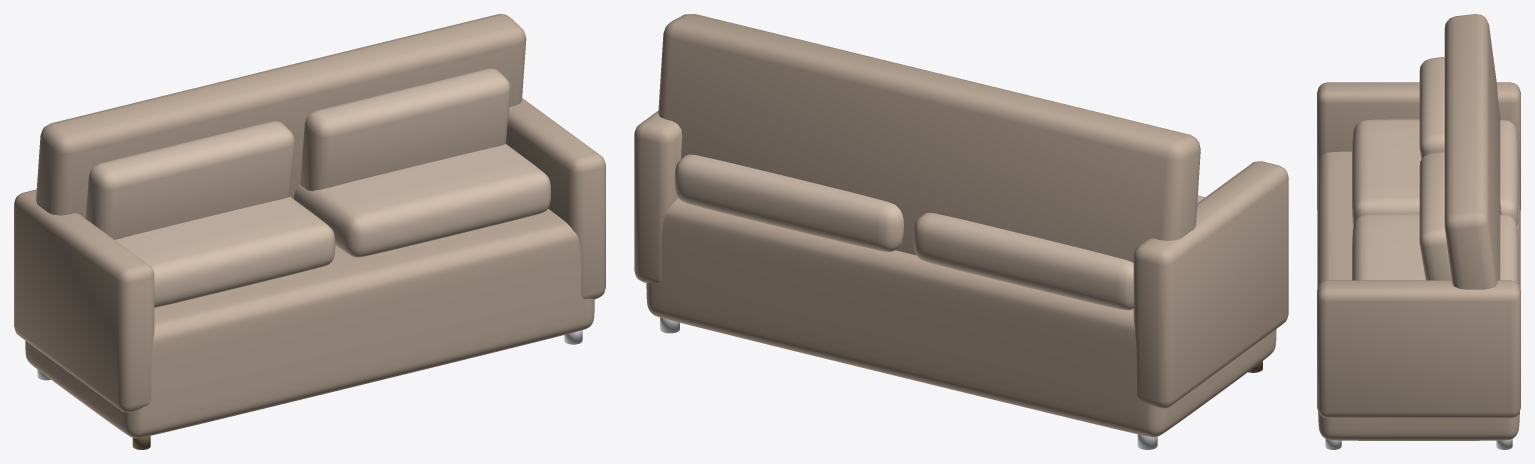
The model's file is couch.glb.
The picture shows the model from 3 angles, left to right: view 1: azimuth 30°, elevation 25°; view 2: azimuth 150°, elevation 25°; view 3: azimuth 270°, elevation 25°; orthographic projection. The views are drawn at different scales.
Parts seen in each view (by area): view 1: CouchBase, CouchBack, ArmLeft, CushionR, BackCushionR, BackCushionL, CushionL, ArmRight; view 2: CouchBack, CouchBase, ArmLeft, CushionR, CushionL, ArmRight; view 3: ArmRight, CouchBack, CouchBase, CushionL, ArmLeft, CushionR, BackCushionR, BackCushionL.
Part boxes in pixels (bbox=[...]): CouchBase: bbox=[25, 209, 594, 438]; CouchBack: bbox=[36, 14, 526, 218]; ArmLeft: bbox=[14, 189, 154, 412]; CushionR: bbox=[294, 144, 550, 257]; BackCushionR: bbox=[300, 68, 510, 190]; BackCushionL: bbox=[85, 121, 294, 239]; CushionL: bbox=[115, 196, 335, 307]; ArmRight: bbox=[506, 98, 605, 299]; CouchBack: bbox=[658, 14, 1200, 262]; CouchBase: bbox=[646, 198, 1276, 437]; ArmLeft: bbox=[1133, 161, 1288, 408]; CushionR: bbox=[674, 154, 903, 251]; CushionL: bbox=[913, 195, 1204, 310]; ArmRight: bbox=[634, 111, 682, 283]; ArmRight: bbox=[1317, 280, 1520, 418]; CouchBack: bbox=[1444, 14, 1501, 289]; CouchBase: bbox=[1317, 151, 1520, 440]; CushionL: bbox=[1352, 119, 1518, 225]; ArmLeft: bbox=[1317, 82, 1520, 209]; CushionR: bbox=[1352, 214, 1518, 283]; BackCushionR: bbox=[1419, 151, 1451, 280]; BackCushionL: bbox=[1419, 57, 1444, 159].
Bounding box in the file's own units: 2.48 × 1.29 × 1.
